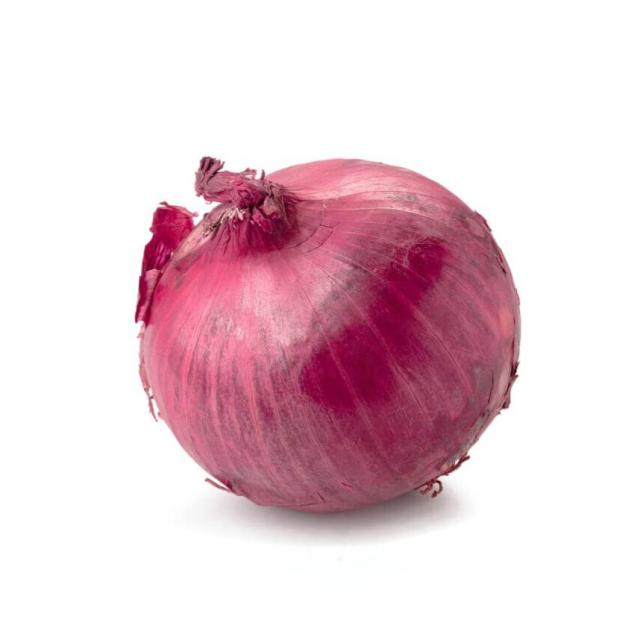onion: (138, 148, 537, 516)
